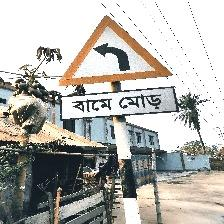Left-Turn: (58, 15, 178, 123)
